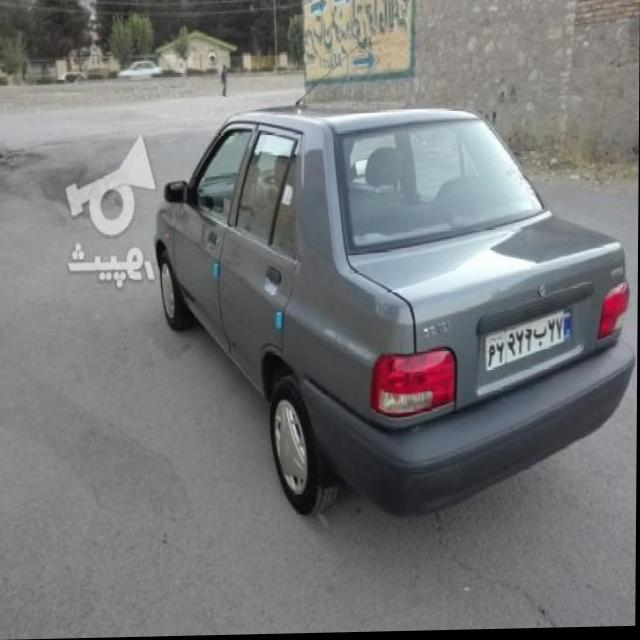licence: (484, 301, 577, 370)
